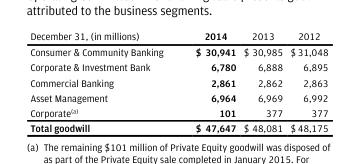table: (29, 29, 327, 133)
table column: (29, 29, 178, 133), (178, 29, 239, 133), (239, 29, 285, 133), (285, 29, 327, 133)
table column header: (29, 29, 327, 43)
table row: (29, 43, 327, 59), (29, 59, 327, 74), (29, 74, 327, 89), (29, 89, 327, 104), (29, 104, 327, 119), (29, 29, 327, 43), (29, 119, 327, 133)
